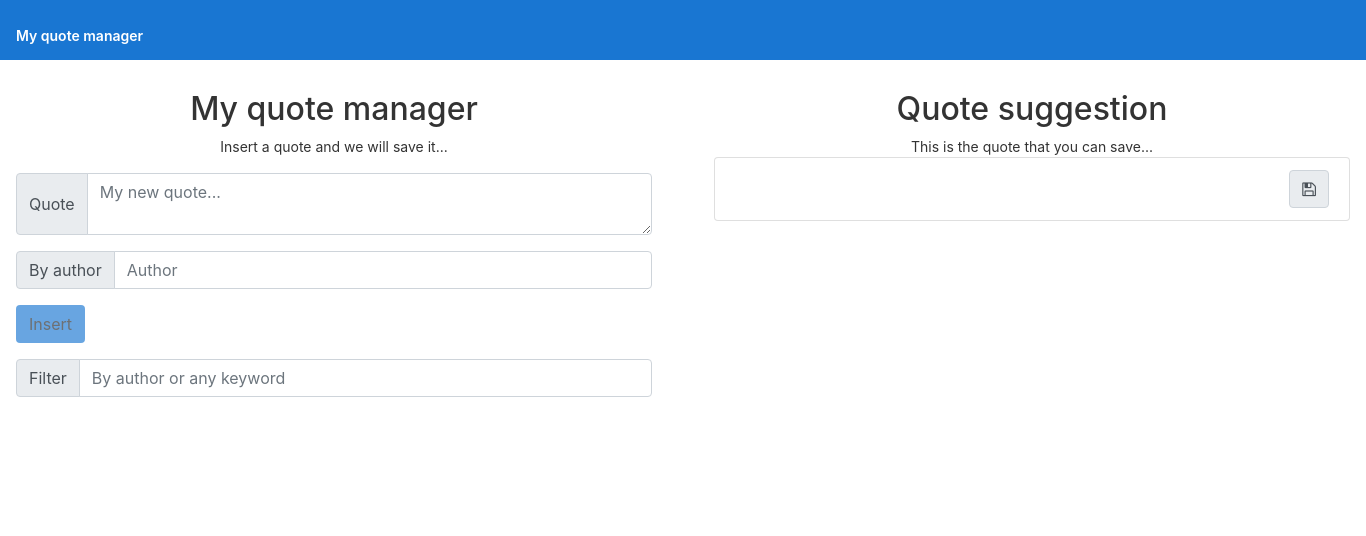
Scenario: Maps › Shoud see te quote results after form compilation
Step 1. Type "my test quote" into the text box with id "new-quote" → coordinates (370, 204), box [87,173,652,235]
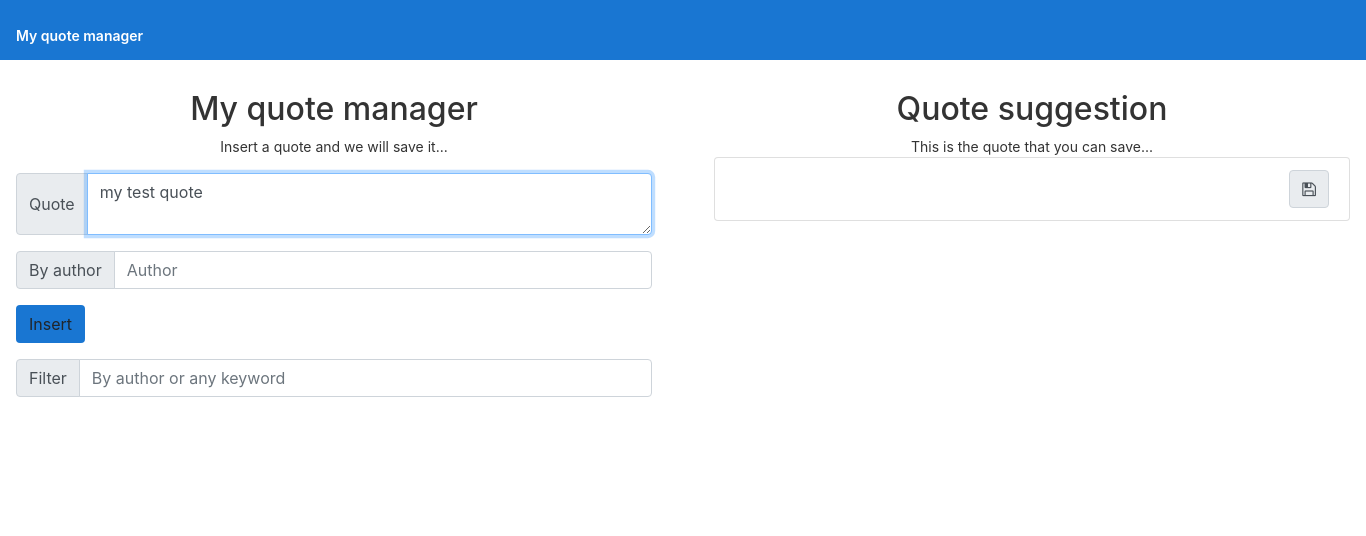
Step 2. Type "my test author" into the field with placeholder "Author" → coordinates (383, 270), box [114,251,652,289]
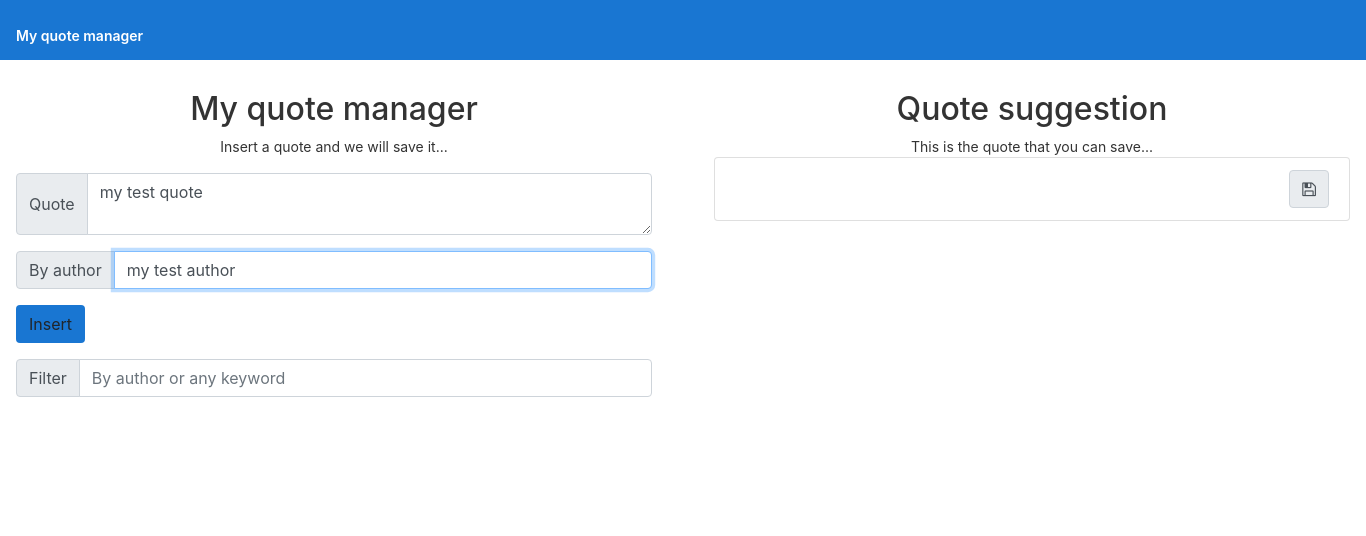
Step 3. Click the button with id "evaluate-quote" → coordinates (51, 324), box [16,305,85,343]
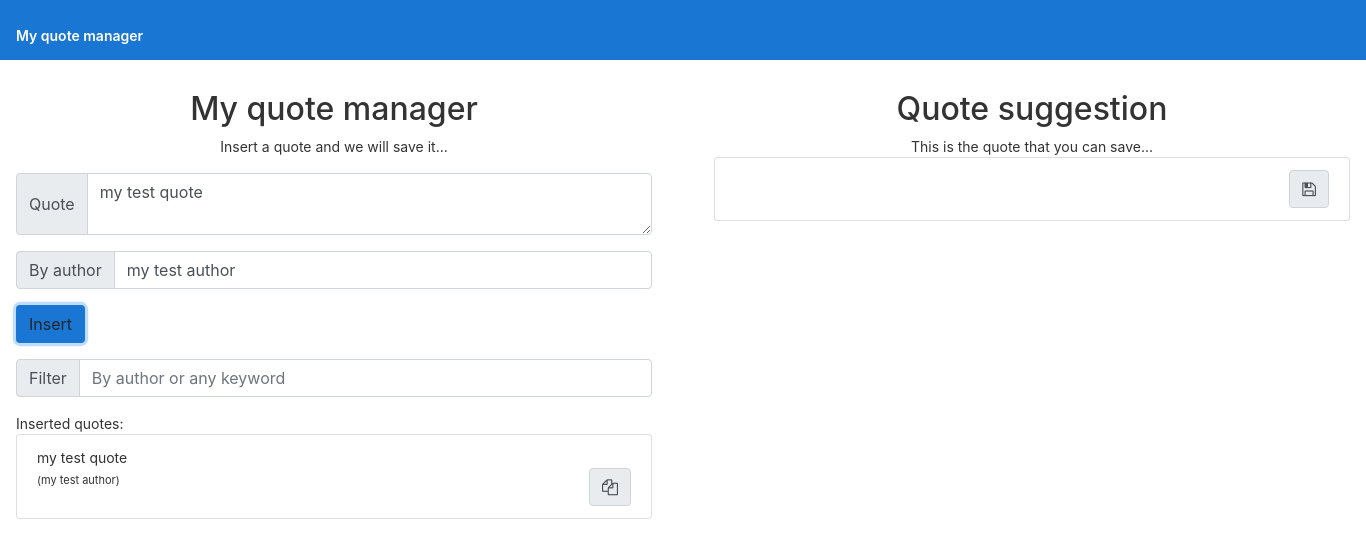
Result: the text "my test quote" is shown at [37,449,127,466]
